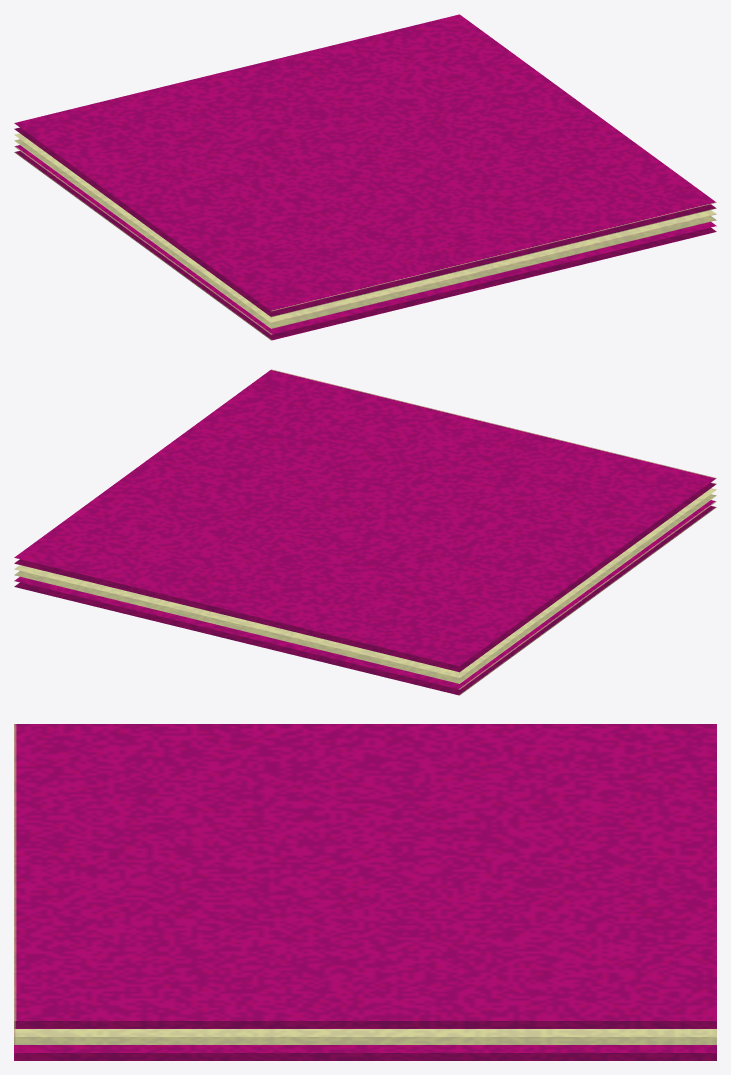
File: kievitsbloem.fbx
3 views of the same model, one above another, from view 1: azimuth 30°, elevation 25°; view 2: azimuth 150°, elevation 25°; view 3: azimuth 270°, elevation 25° (orthographic). The views are drawn at different scales.
Parts seen in each view (by area): view 1: kievitsbloem; view 2: kievitsbloem; view 3: kievitsbloem.
Boxes of the visible parts, x1,y1,x2,y2 form: kievitsbloem: [14, 14, 716, 340]; kievitsbloem: [14, 369, 716, 695]; kievitsbloem: [14, 724, 716, 1060].
Bounding box in the file's own units: 400 × 25 × 400.
Materials: 1 (1 with a texture image).
